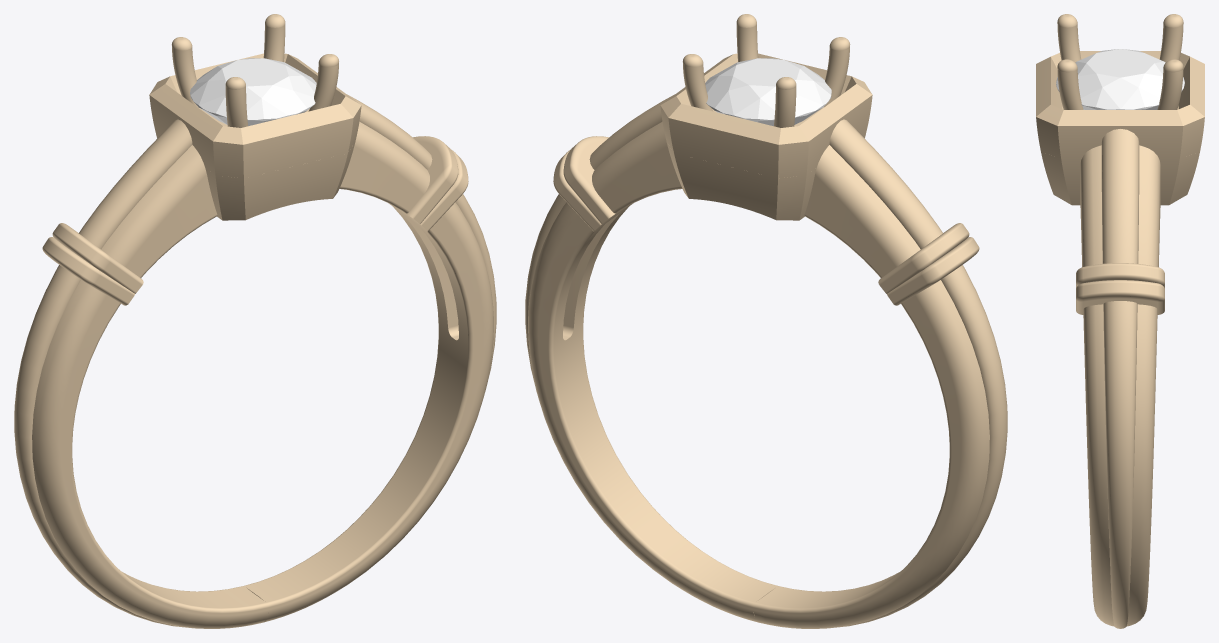
Rendered from Imperial Vault Solitaire Ring.glb.
3 views of the same model, side by side, from view 1: azimuth 30°, elevation 25°; view 2: azimuth 150°, elevation 25°; view 3: azimuth 270°, elevation 25° (orthographic).
Parts seen in each view (by area): view 1: /DC LR-0965.3dm; view 2: /DC LR-0965.3dm; view 3: /DC LR-0965.3dm.
Part boxes in pixels (x1,y1,x2,y2): /DC LR-0965.3dm: [14, 14, 496, 628]; /DC LR-0965.3dm: [525, 14, 1007, 628]; /DC LR-0965.3dm: [1036, 14, 1204, 628].
Size of the model in its own units: 2.57 by 2.96 by 0.8002.
